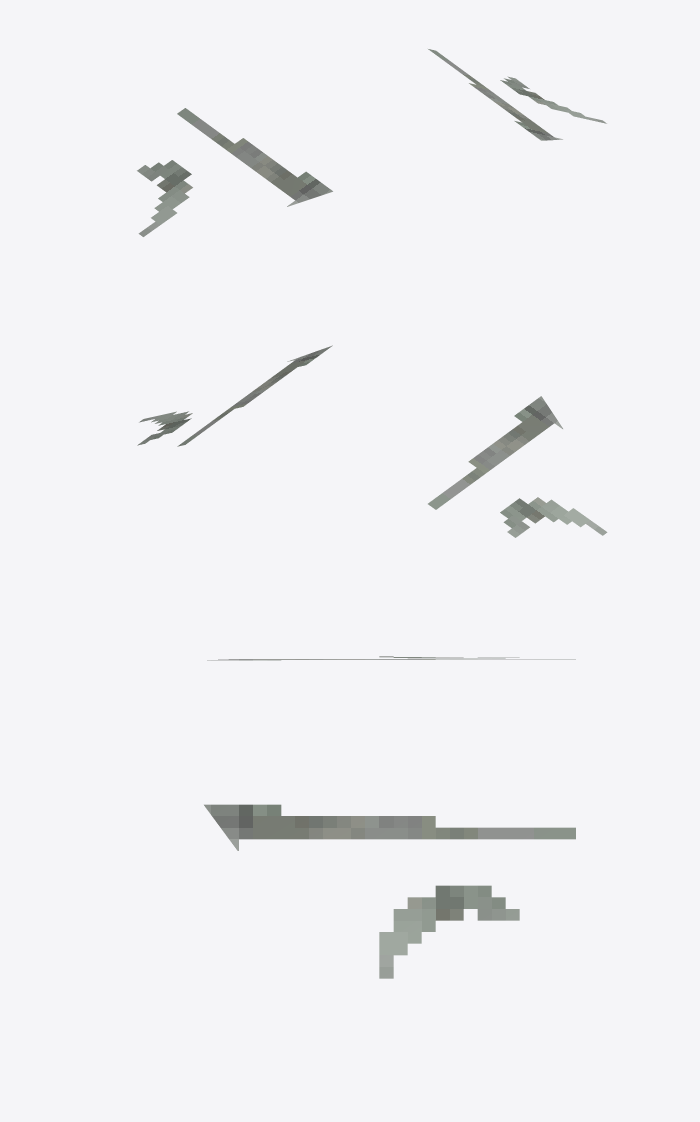
File: black_sun_fighter_light_struct_s02_l3.fbx
3 views of the same model, one above another, from view 1: azimuth 30°, elevation 25°; view 2: azimuth 150°, elevation 25°; view 3: azimuth 270°, elevation 25° (orthographic). The views are drawn at different scales.
Parts seen in each view (by area): view 1: mesh_node; view 2: mesh_node; view 3: mesh_node.
Boxes of the visible parts, x1,y1,x2,y2 form: mesh_node: (137,49,606,236); mesh_node: (137,345,607,537); mesh_node: (204,656,575,978).
Size of the model in its own units: 15.82 by 2.74 by 9.89.
1 material, 1 textured.
